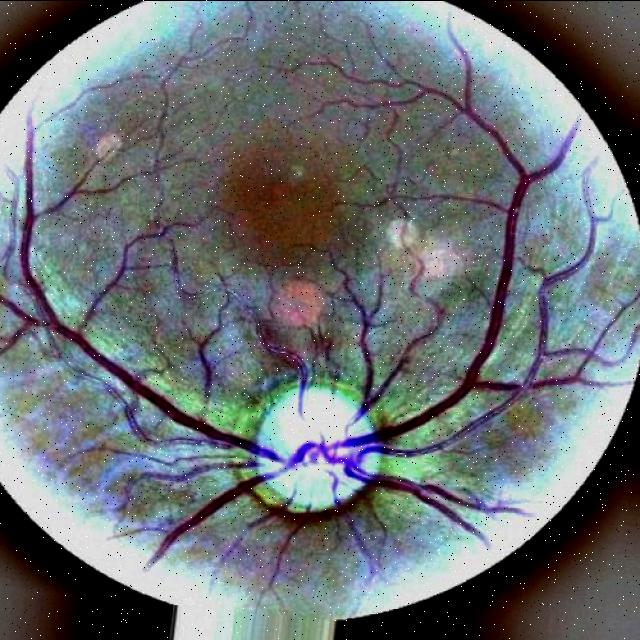Macula: (225, 164, 339, 259)
Nerves: (22, 37, 640, 563), (261, 326, 311, 415)
Optic Disk: (257, 380, 384, 509)
